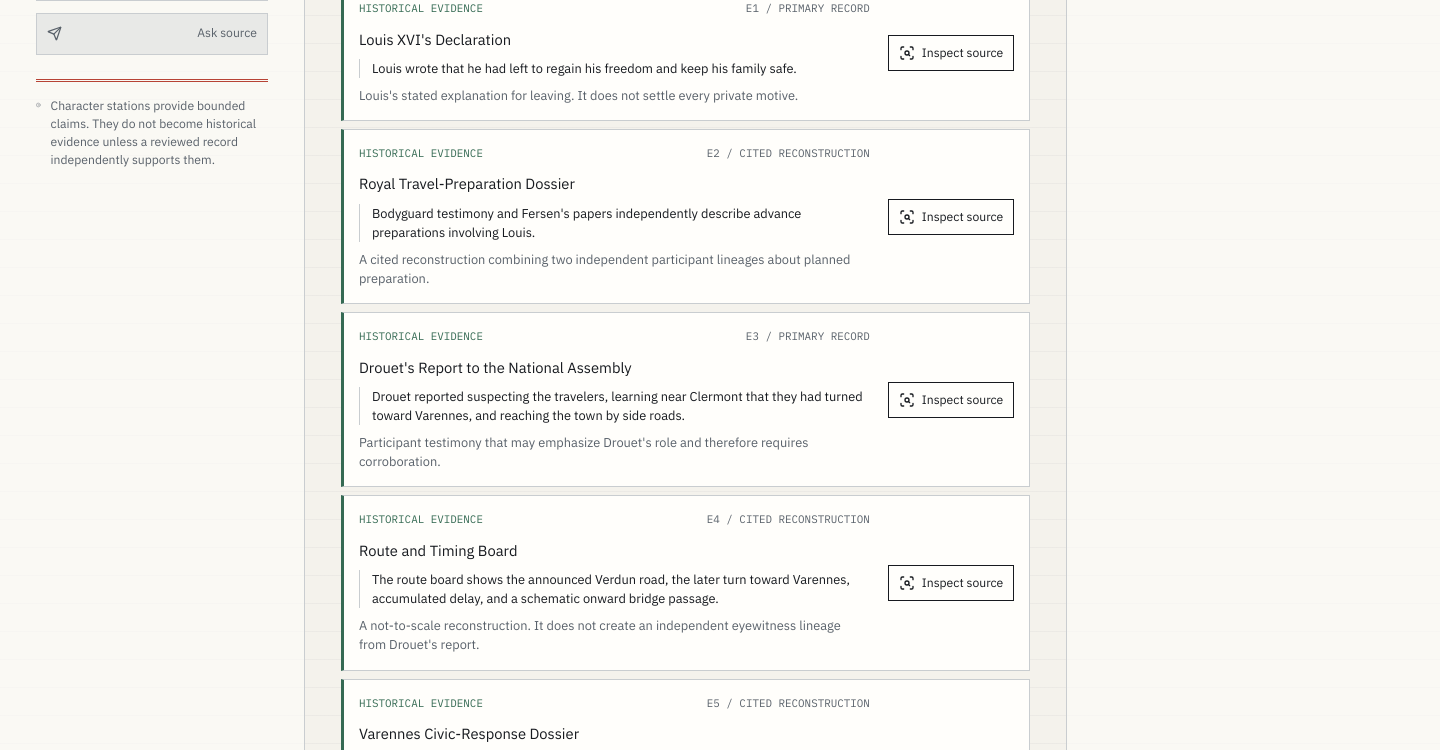
Test case: investigation workspace › pins inspected historical evidence but never offers that action for branch fiction
(page scrolled)
Click the button with test id "inspect-E3".
click(951, 400)  # box [888,382,1014,418]
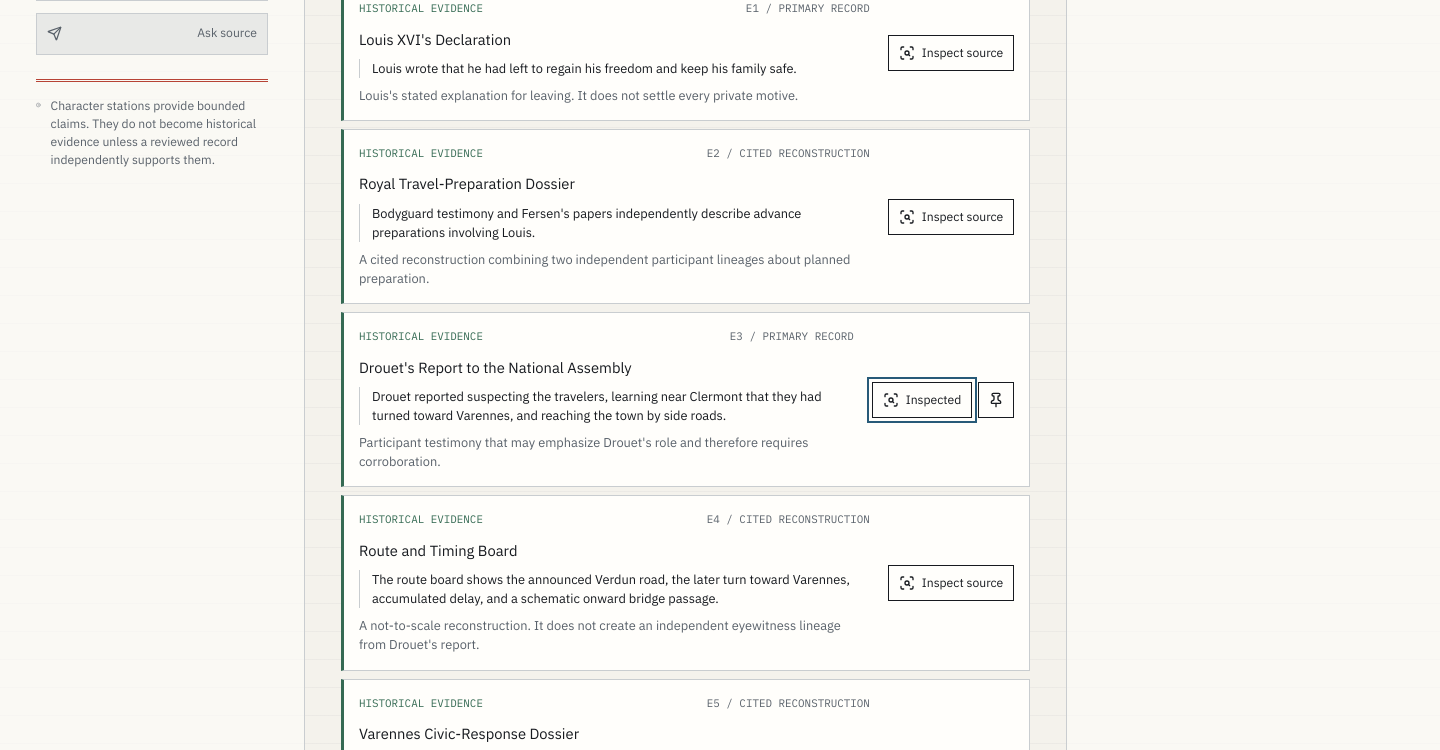
Click the button named "pin Drouet's report".
click(996, 400)  # box [978,382,1014,418]
(page scrolled)
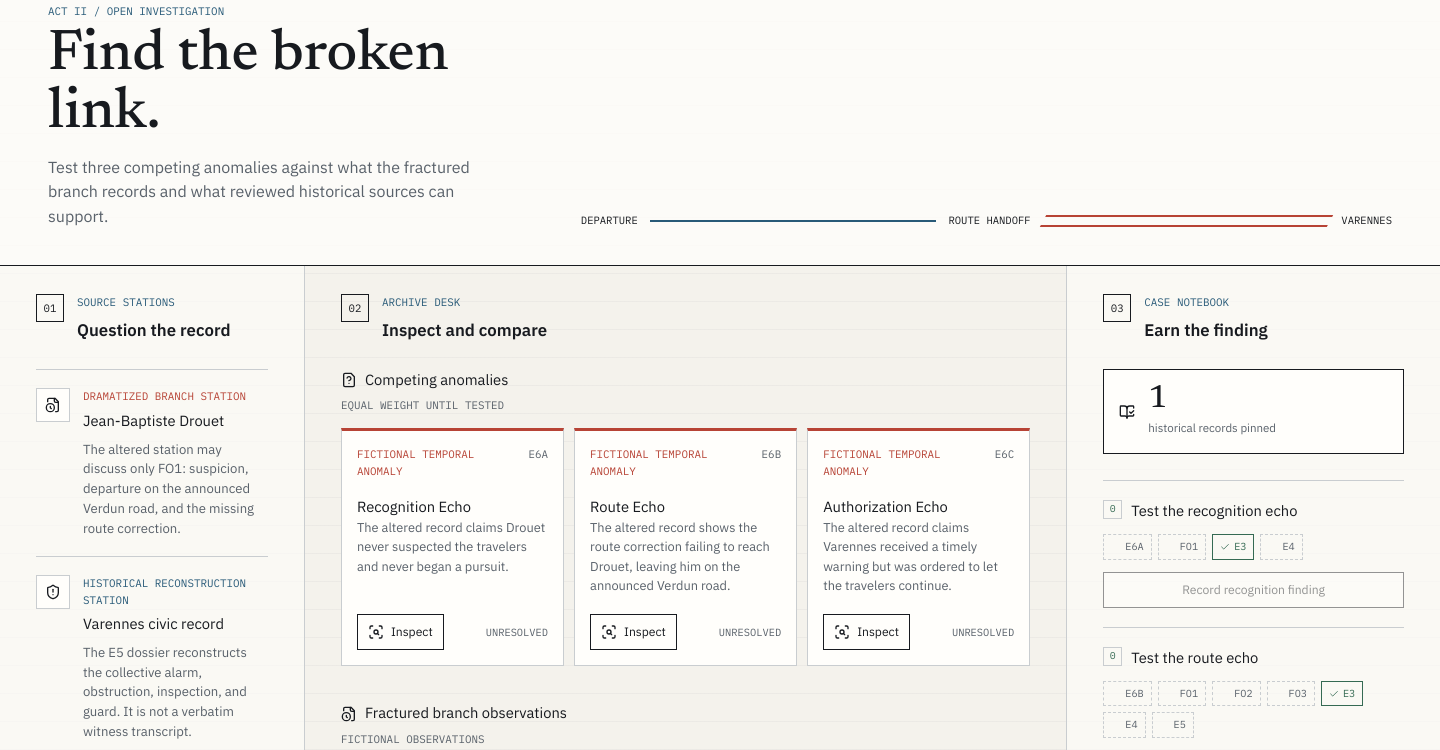
Check: the text with test id "notebook-pinned-count" reads "1", box [1148,383,1167,415]
